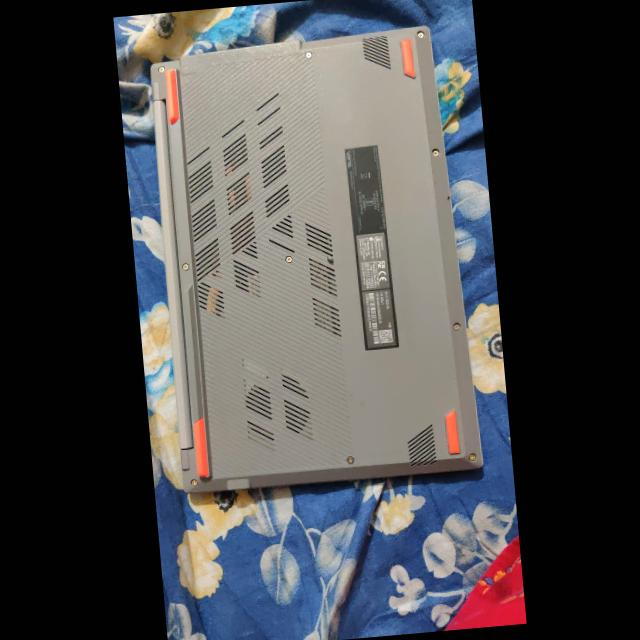laptop: (130, 3, 499, 534)
